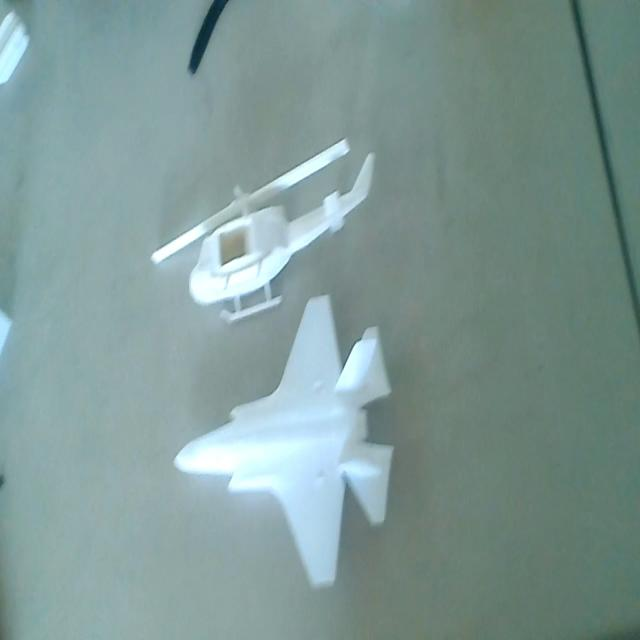Helicopter: (146, 132, 382, 326)
Jet: (170, 293, 396, 593)
